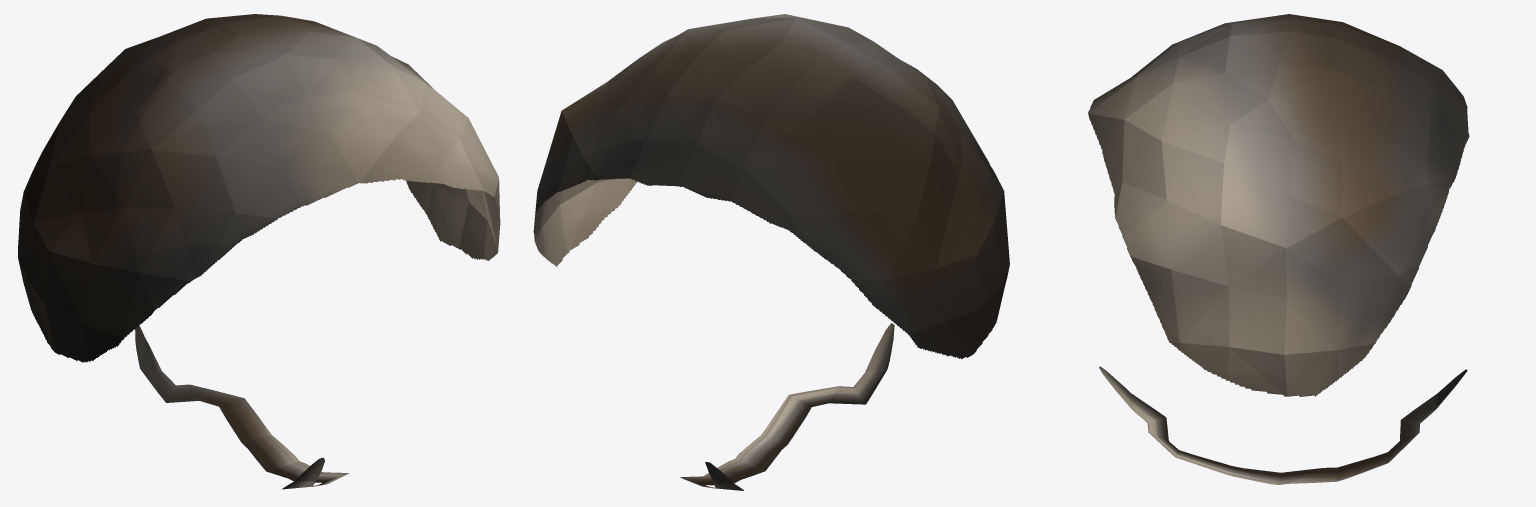
The picture shows the model from 3 angles, left to right: view 1: azimuth 30°, elevation 25°; view 2: azimuth 150°, elevation 25°; view 3: azimuth 270°, elevation 25°; orthographic projection.
Parts seen in each view (by area): view 1: GeoSphere001; view 2: GeoSphere001; view 3: GeoSphere001.
Part boxes in pixels (bbox=[...]): GeoSphere001: bbox=[18, 14, 500, 489]; GeoSphere001: bbox=[533, 14, 1009, 490]; GeoSphere001: bbox=[1088, 14, 1469, 484].
Bounding box in the file's own units: 82.99 × 82.37 × 83.07.
